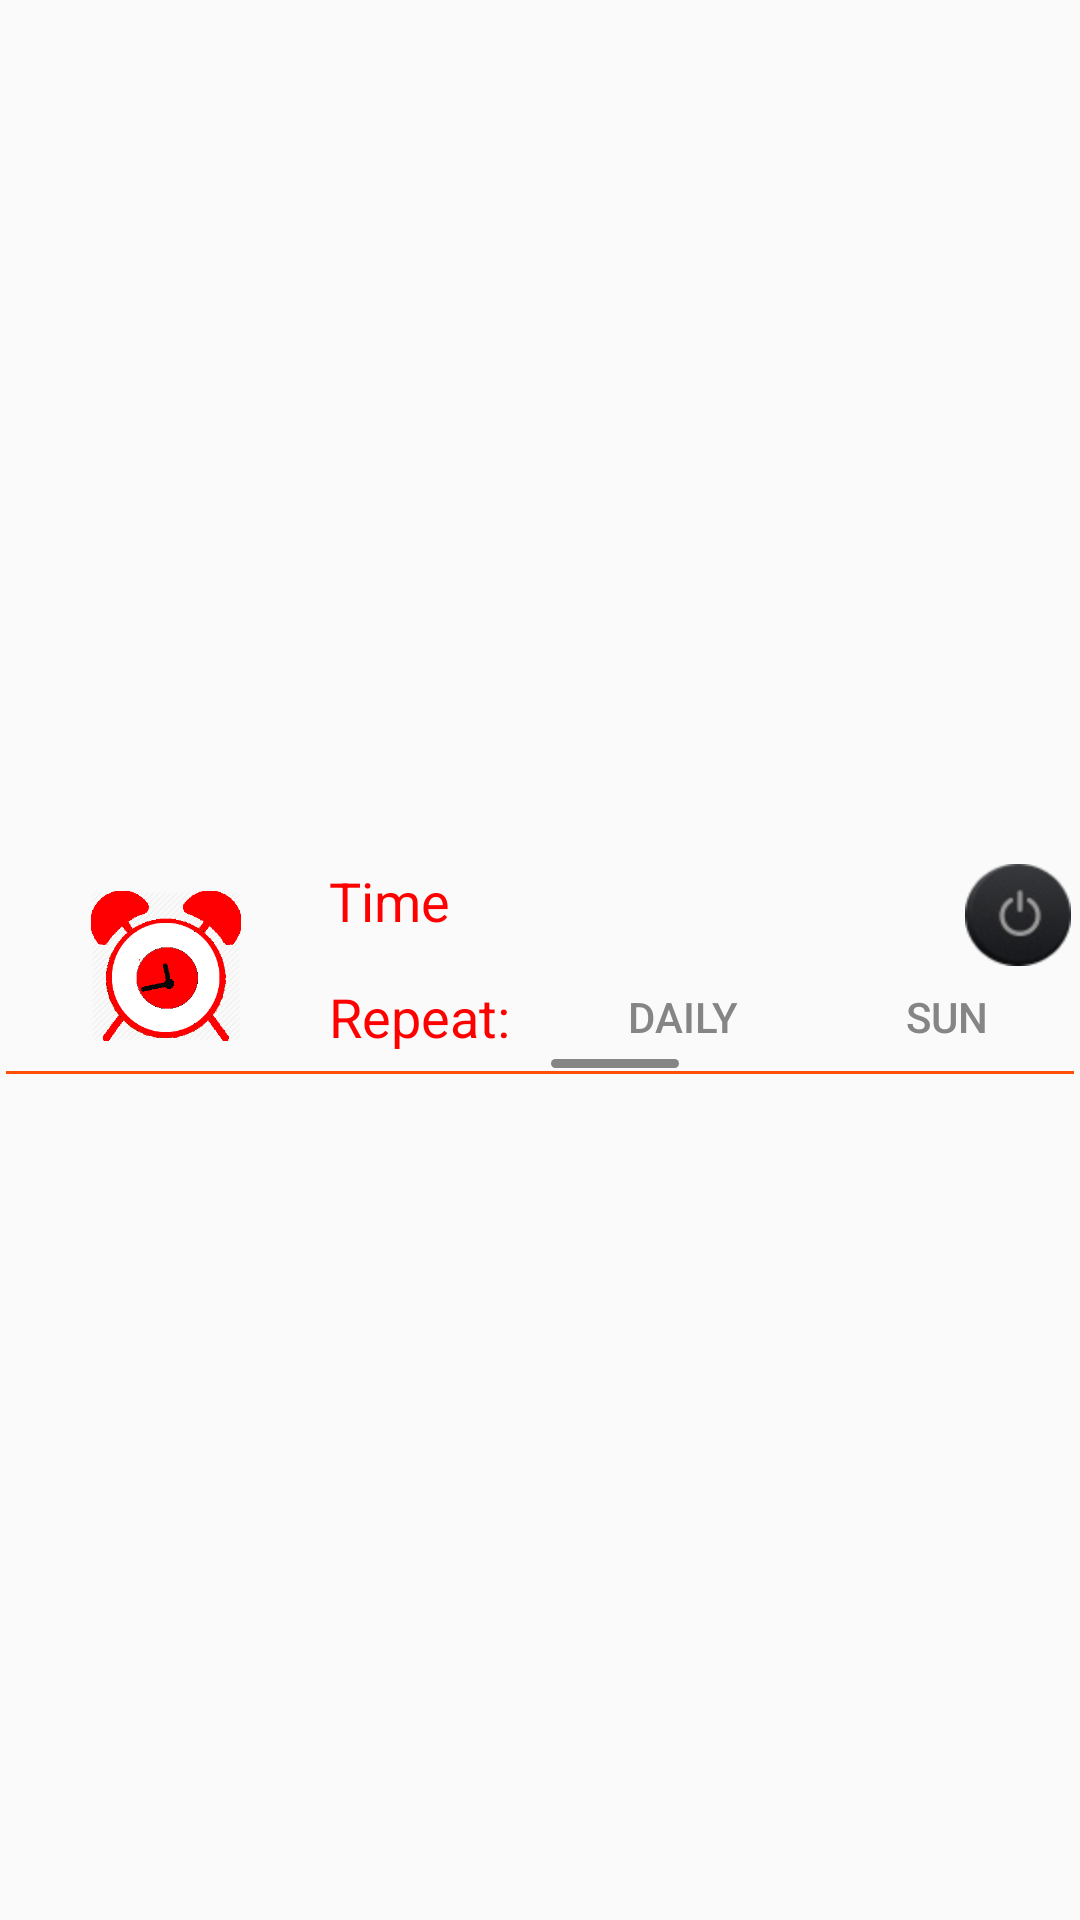

Icon click points for this 1080px×1920px phone screenshot, format (x,y):
alarm: (166,966)
